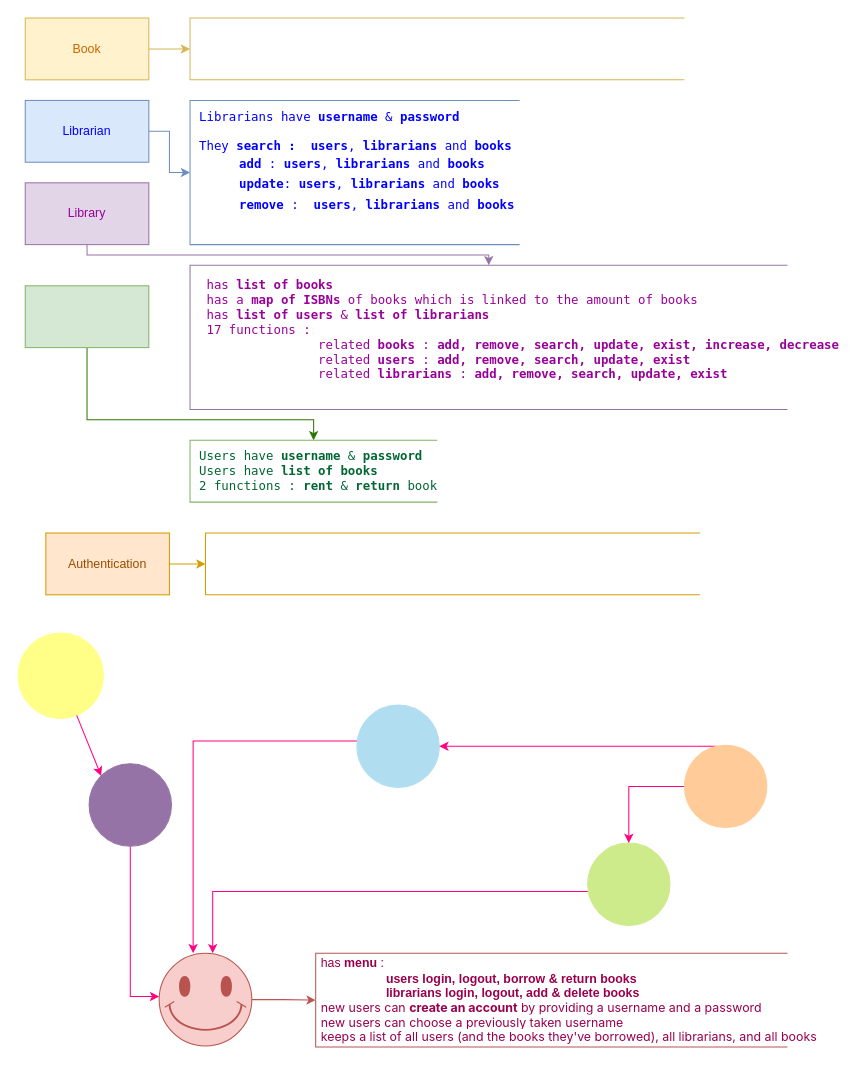
This 858x1092 diagram has some shape labels left out. The shapes that lost their labels are listed below. From the top down, each one's centre as x and y in pixels, then its label:
the point at 436,48: Books in this library contain name , author , year of publish and ISBN
the point at 86,316: User
the point at 452,563: Passwords are kept here for security.
the point at 205,999: Main
